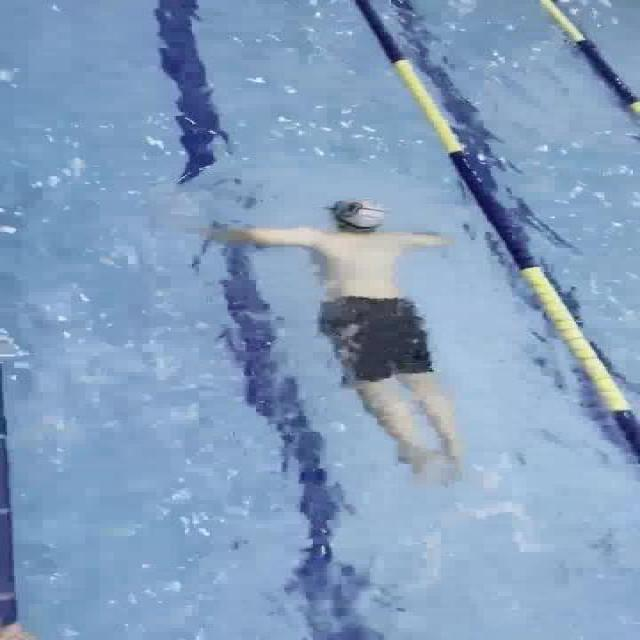Swimming: (216, 195, 474, 490)
